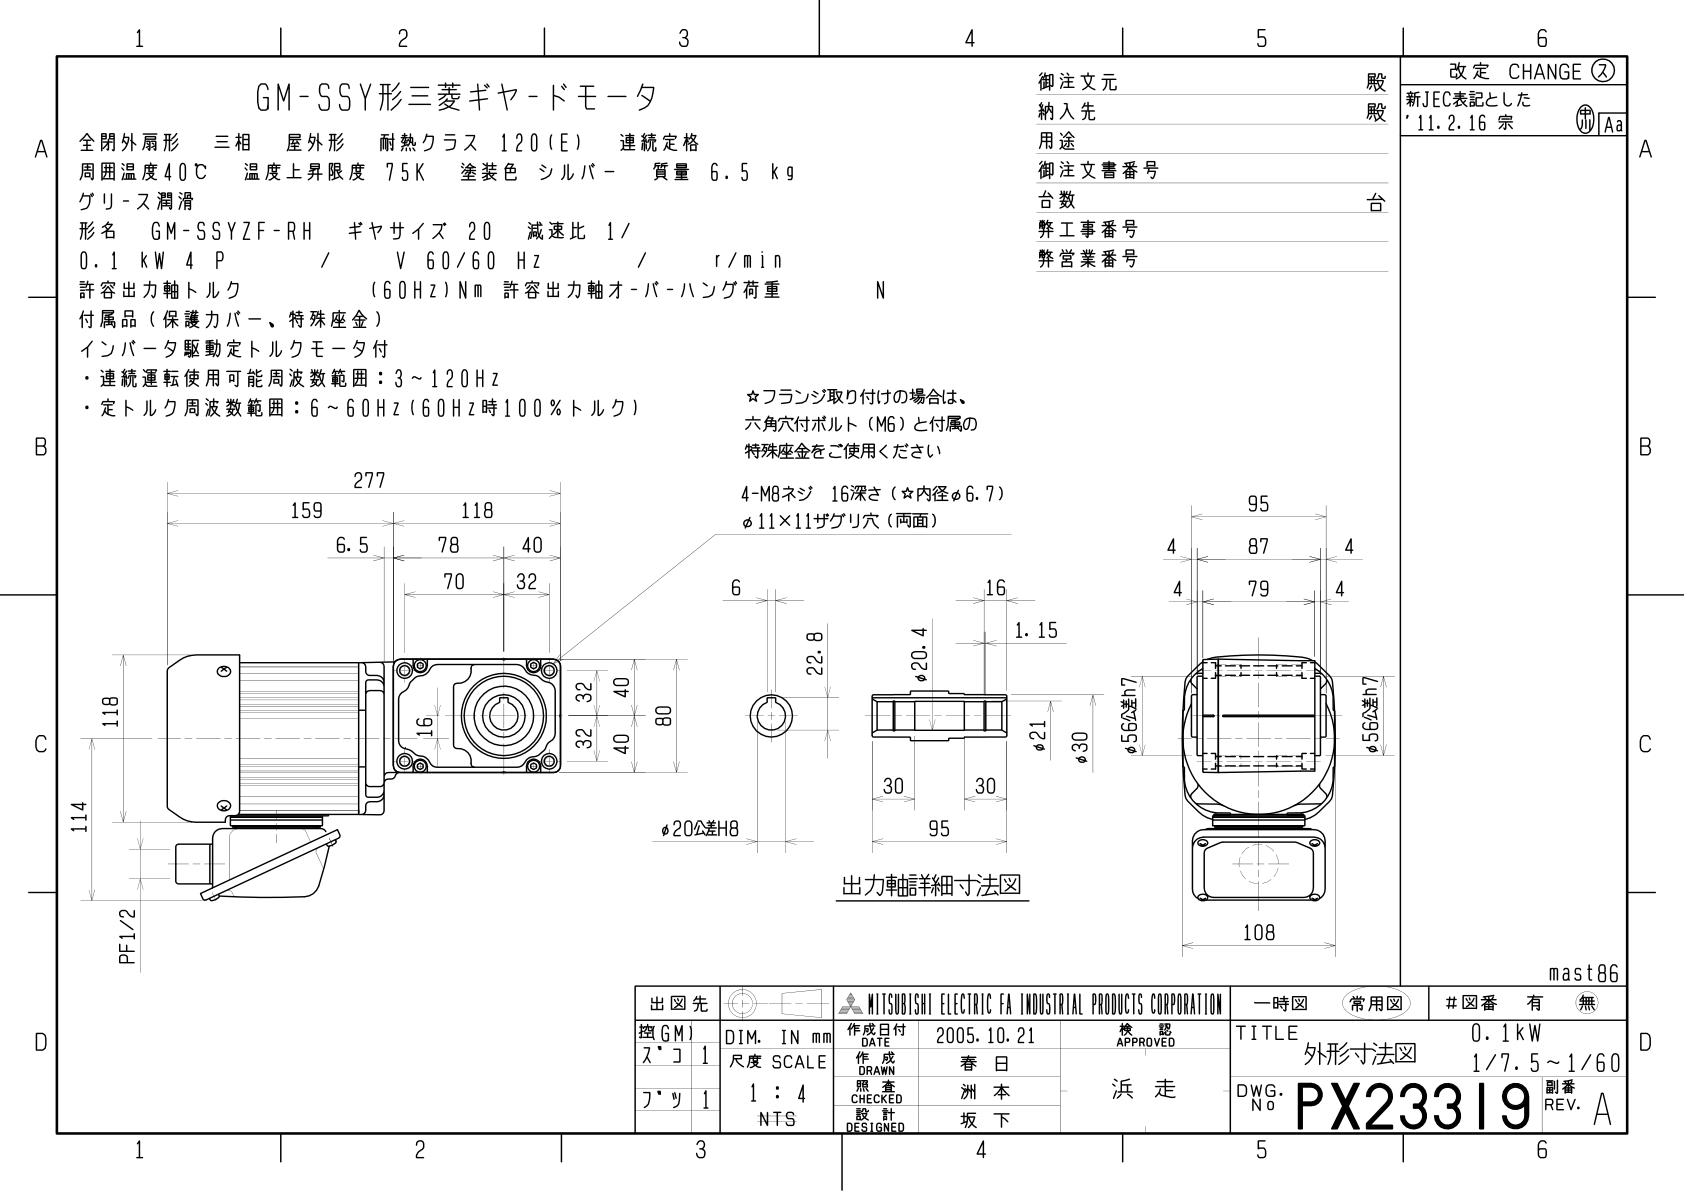GM_SSY_インバータ屋外_三相: (67, 445, 1393, 980)
